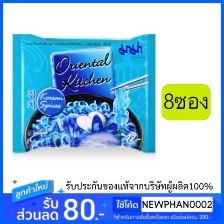snack: (6, 24, 161, 159)
